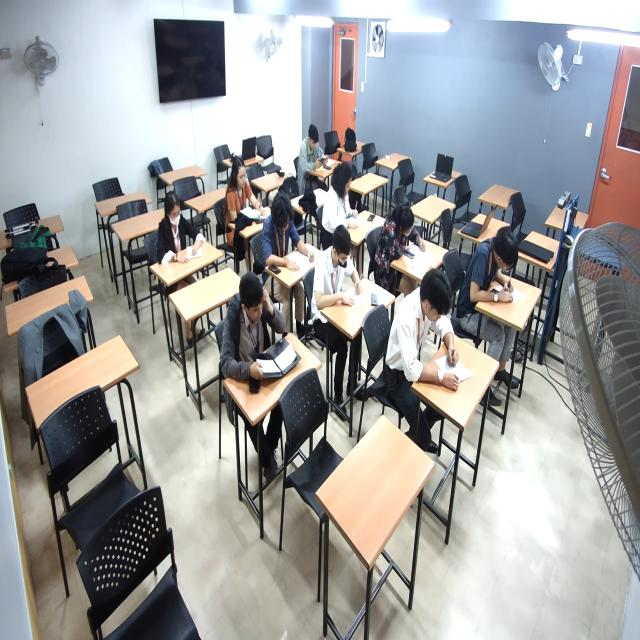read: (398, 280, 474, 403), (470, 234, 526, 322), (316, 231, 370, 317), (263, 203, 322, 281), (222, 157, 274, 237), (158, 200, 212, 277), (382, 200, 434, 274), (323, 175, 369, 241), (300, 128, 340, 178)
